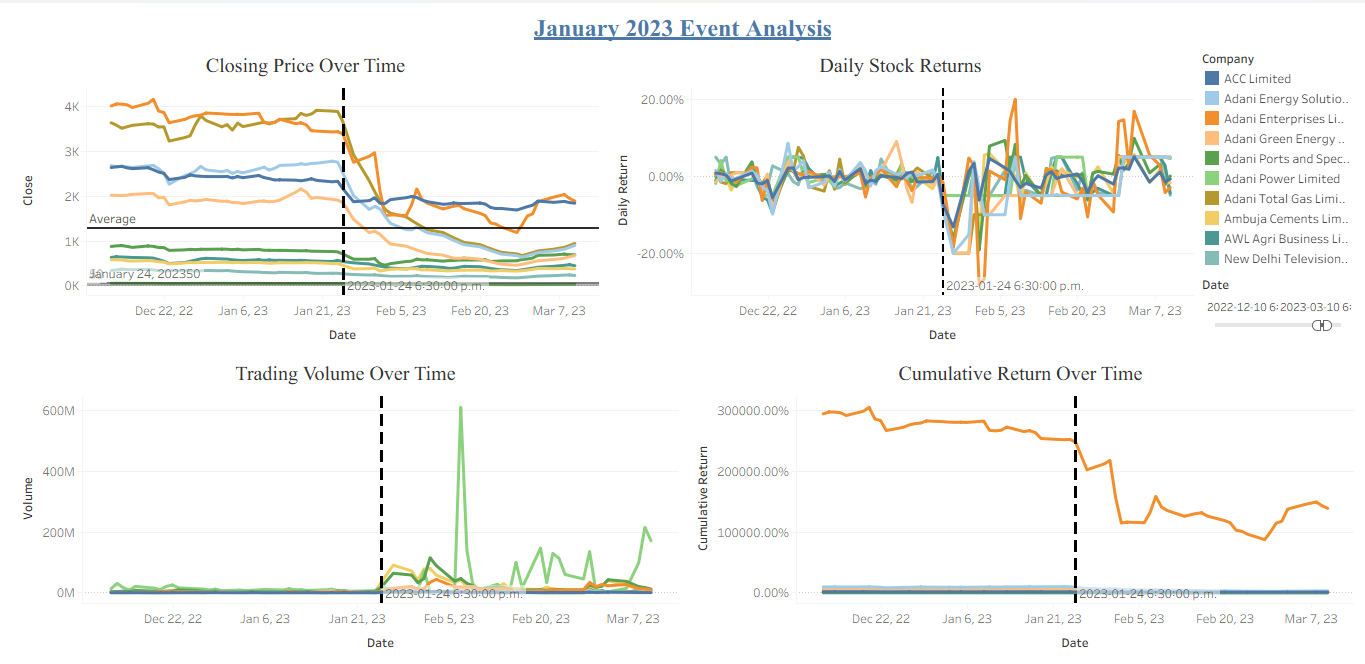

The page's visual inventory and layout, read from the dashboard file:
{"tool":"tableau","page":{"name":"January 2023 Event Analysis","canvas":[1000,1000],"units":"permille","ordinal":2},"visuals":[{"type":"title","box":[6.9,13.7,986.1,59.9]},{"type":"worksheet","title":"Closing Price Trend","mark":"Automatic","rows":["close"],"cols":["date"],"box":[6.9,73.6,423.8,456.3]},{"type":"worksheet","title":"Daily Returns","mark":"Automatic","rows":["daily_return"],"cols":["date"],"box":[430.7,73.6,423.9,456.3]},{"type":"legend","title":"Closing Price Trend","param":"[federated.071lyal071fq7l0zzem6w0fen4qm].[none:company:nk]","box":[854.5,73.6,138.5,338.1]},{"type":"filter","title":"Daily Returns","param":"[federated.071lyal071fq7l0zzem6w0fen4qm].[none:date:qk]","box":[854.5,411.8,138.5,118.2]},{"type":"worksheet","title":"Trading Volume","mark":"Automatic","rows":["volume"],"cols":["date"],"box":[6.9,529.9,493.1,456.4]},{"type":"worksheet","title":"Cumulative Performance","mark":"Automatic","rows":["cumulative_return"],"cols":["date"],"box":[500,529.9,493.1,456.4]}]}

Visuals, with their boxes on the dashboard's canvas, which has no fixed pixel size, in thousandths of its width and height (x1, y1, x2, y2). These are canvas units, not pixel positions in the 1365x664 screenshot, which may show the page scaled, cropped or inside an application window:
title: Rect(7, 14, 993, 74)
"Closing Price Trend" worksheet: Rect(7, 74, 431, 530)
"Daily Returns" worksheet: Rect(431, 74, 855, 530)
"Closing Price Trend" legend: Rect(854, 74, 993, 412)
"Daily Returns" filter: Rect(854, 412, 993, 530)
"Trading Volume" worksheet: Rect(7, 530, 500, 986)
"Cumulative Performance" worksheet: Rect(500, 530, 993, 986)
